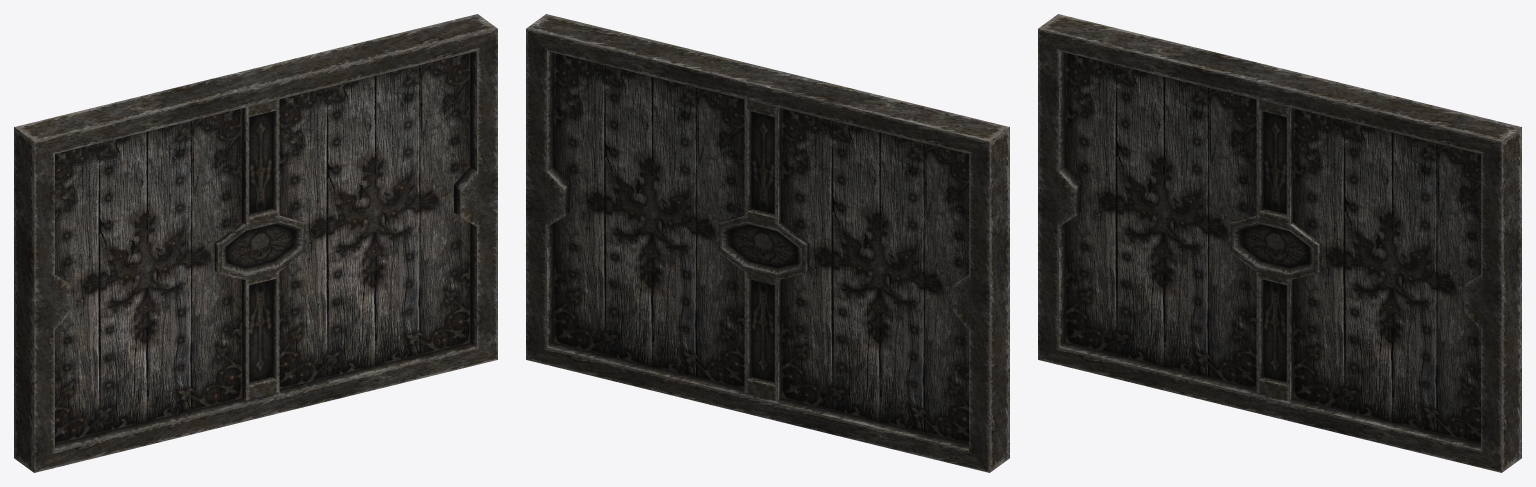
The model's file is safety_large_vert.dae.
The picture shows the model from 3 angles, left to right: view 1: azimuth 30°, elevation 25°; view 2: azimuth 150°, elevation 25°; view 3: azimuth 330°, elevation 25°; orthographic projection.
Parts seen in each view (by area): view 1: polySurface12; view 2: polySurface12; view 3: polySurface12.
Part boxes in pixels (bbox=[...]): polySurface12: bbox=[14, 14, 497, 472]; polySurface12: bbox=[526, 14, 1009, 472]; polySurface12: bbox=[1038, 14, 1521, 472].
Size of the model in its own units: 4 by 2.73 by 0.3.
